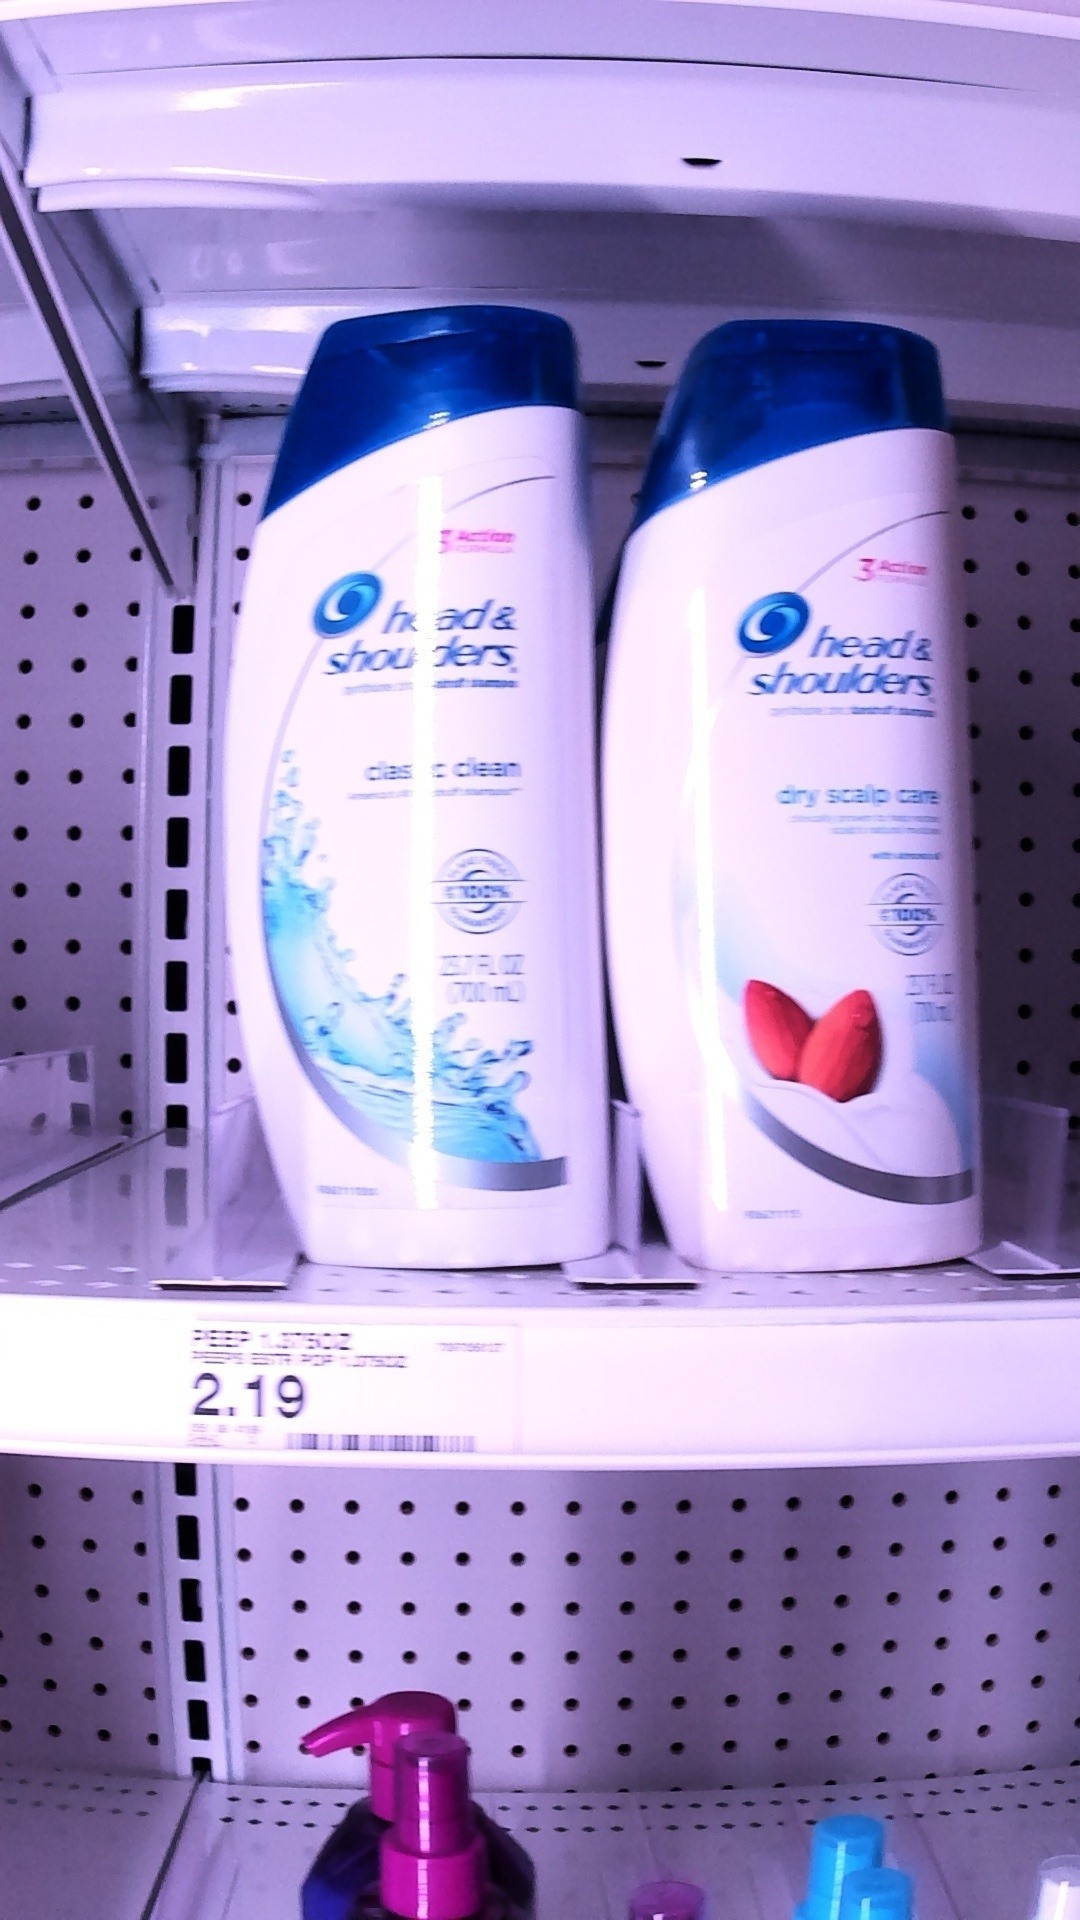ptag: (156, 1300, 531, 1477)
